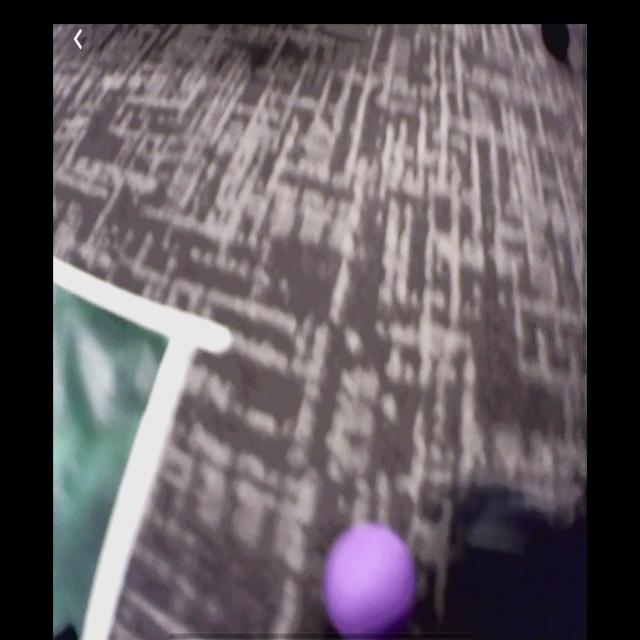ball: (323, 521, 419, 637)
